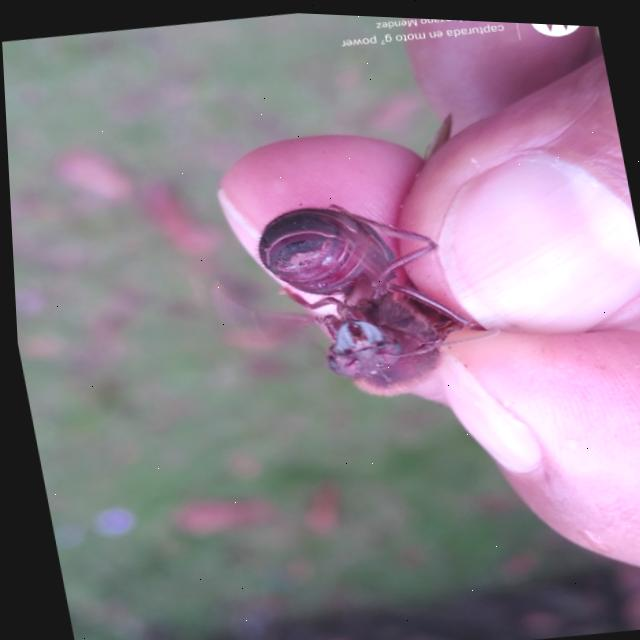Alive-Female-Alate: (185, 99, 502, 420)
